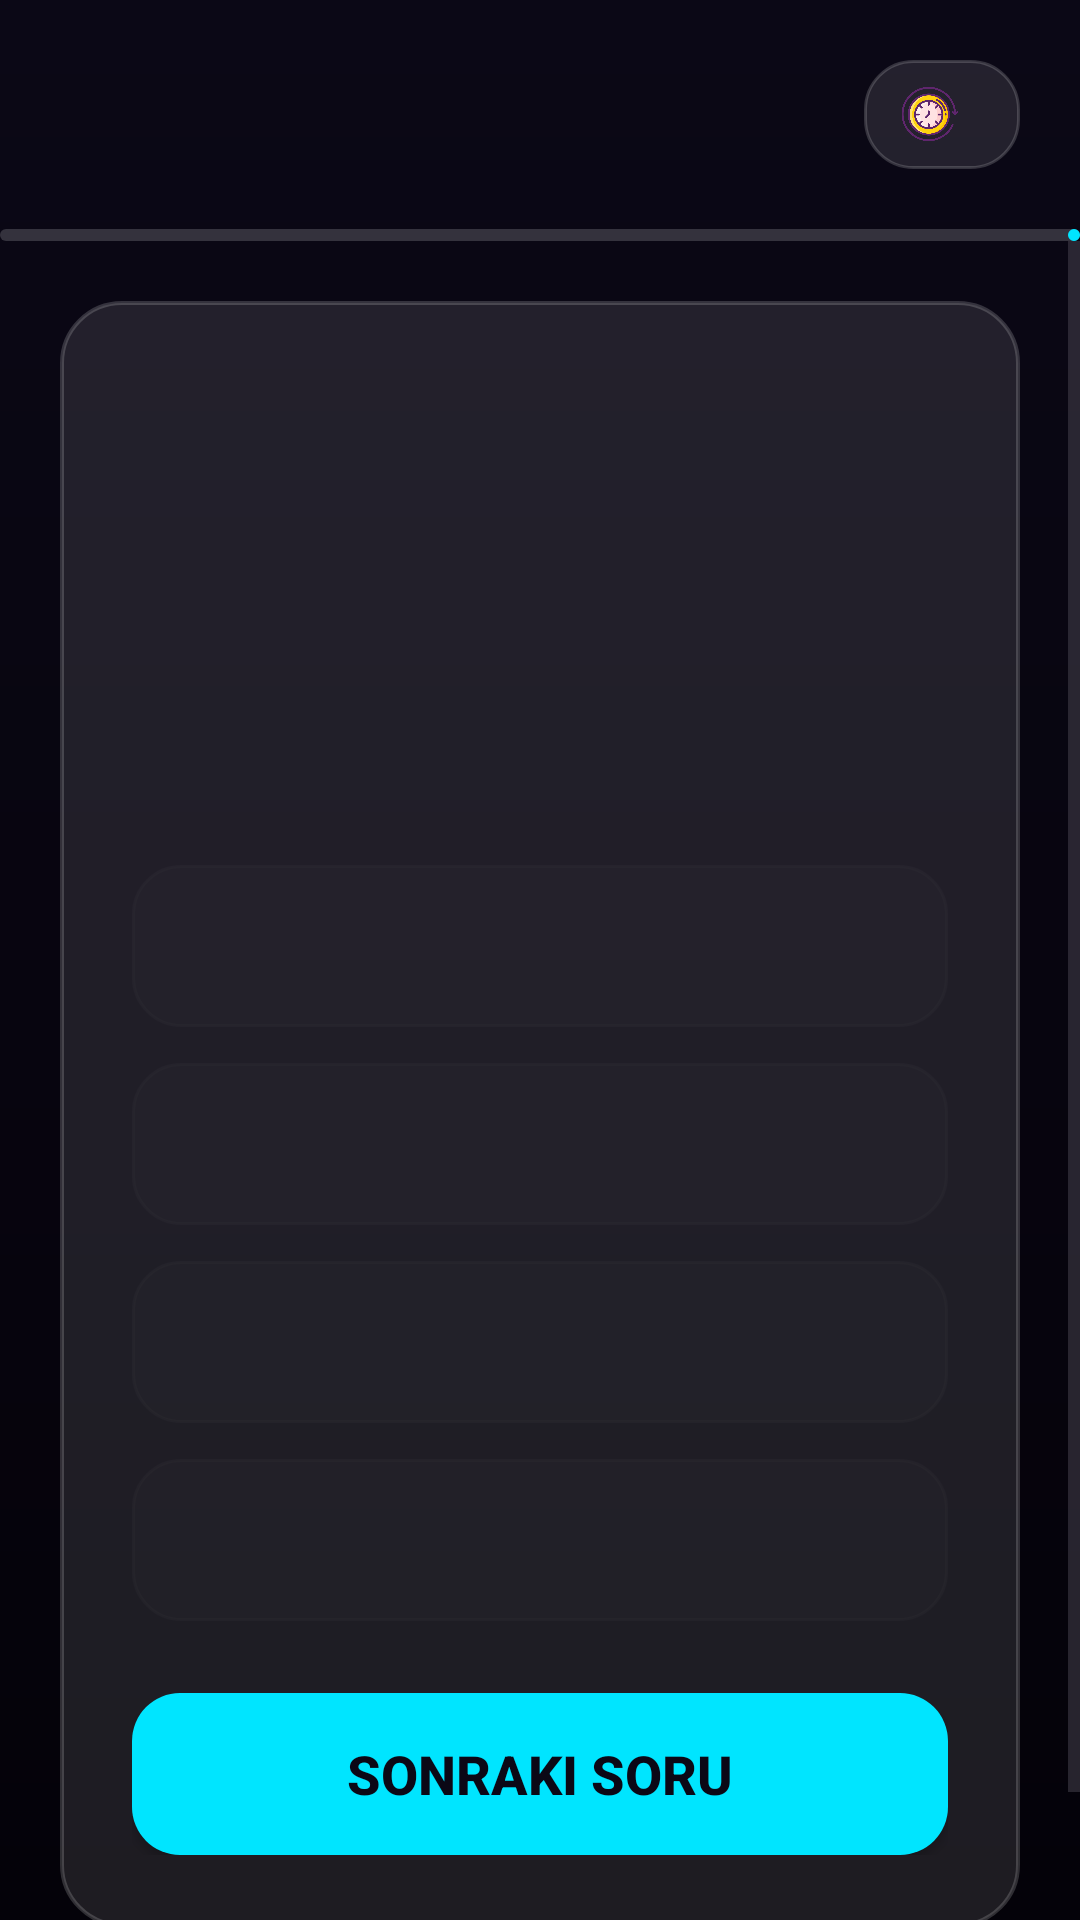

Where icons sit on this 1080x1920 app screen, as rect(x1, y1, x2, y2):
saat: rect(902, 87, 958, 141)
